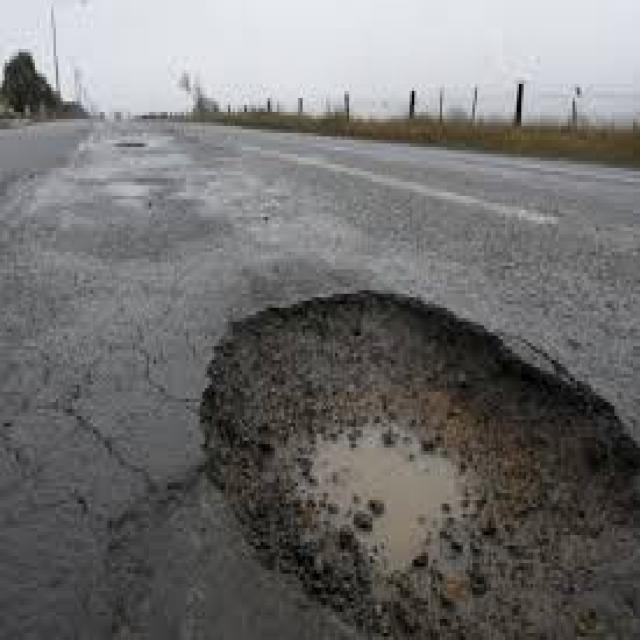Pothole: (198, 290, 640, 640)
